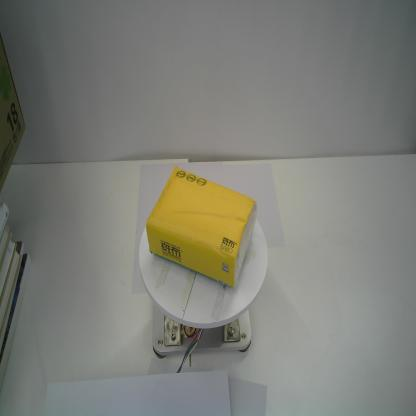Tissue: (145, 165, 258, 288)
